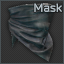Lower half-mask: (0, 0, 64, 64)
